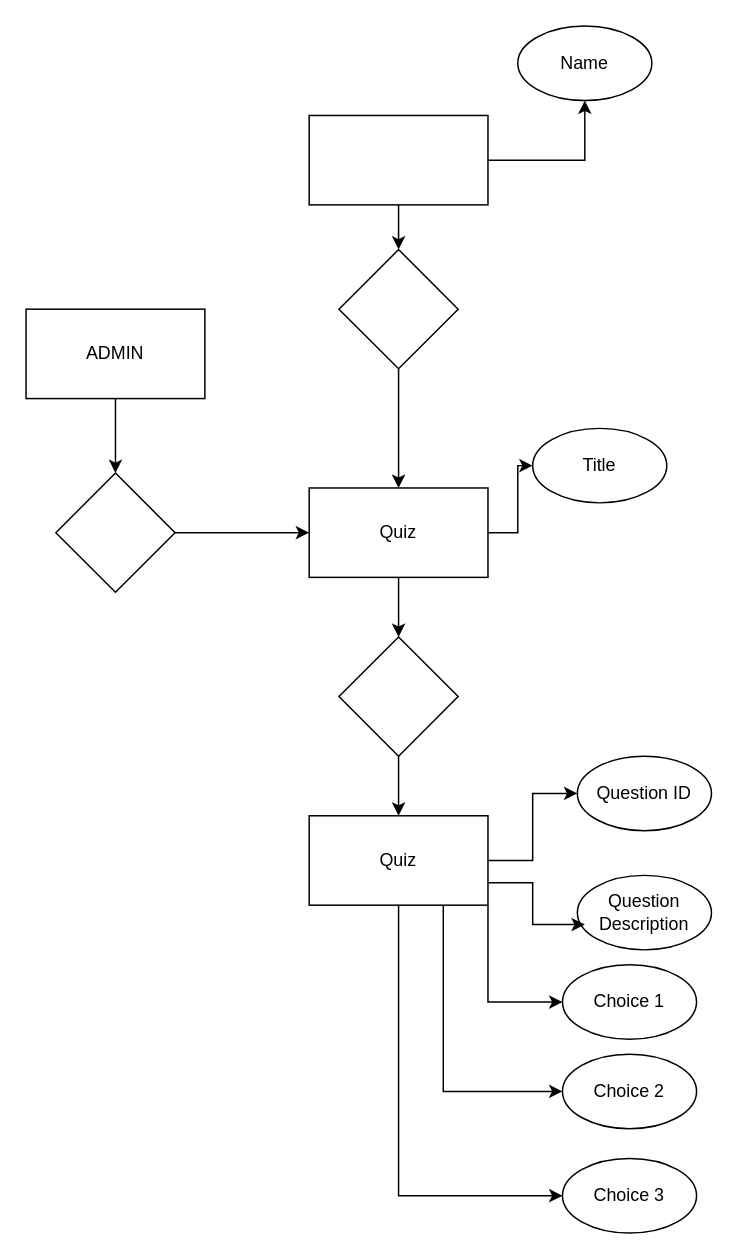
Image size: 738x1259. Some labels were removed from this diagram. Each missing label, with the box of its shape:
Contains: (337, 635, 458, 756)
Manage: (54, 472, 175, 592)
Student: (308, 114, 488, 205)
Takes: (337, 248, 458, 369)
